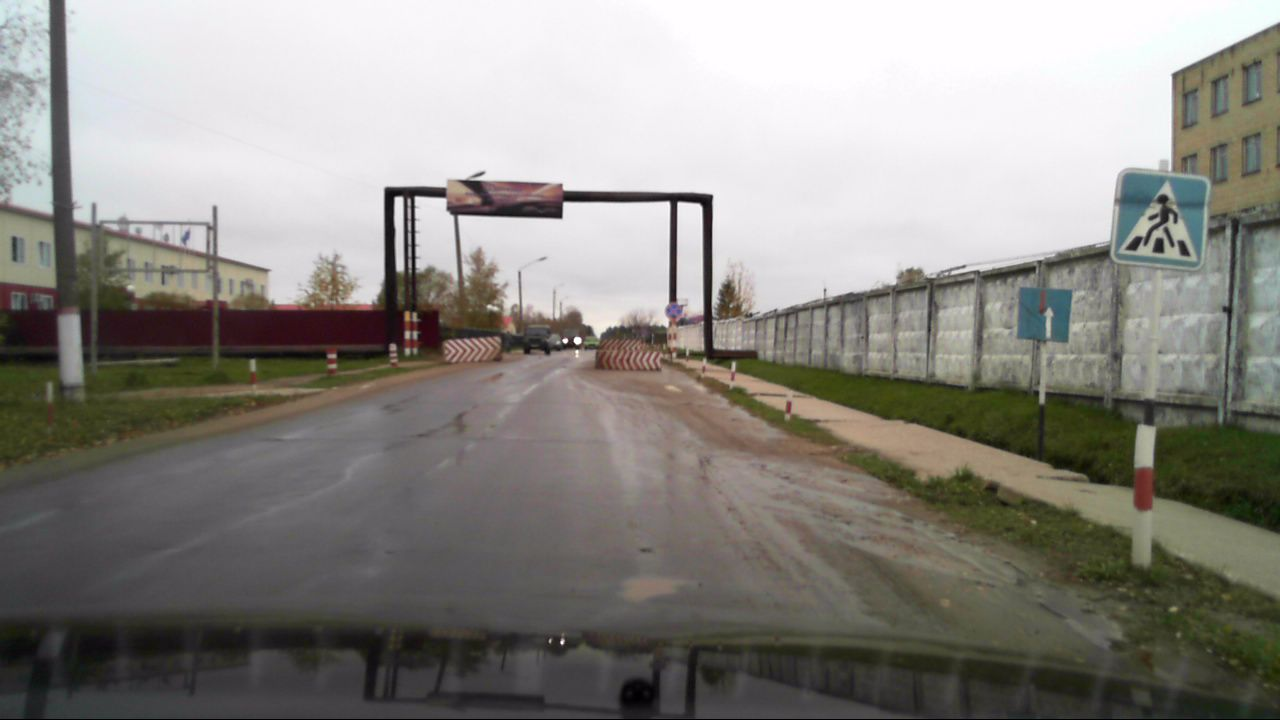No Parking: (664, 302, 682, 320)
